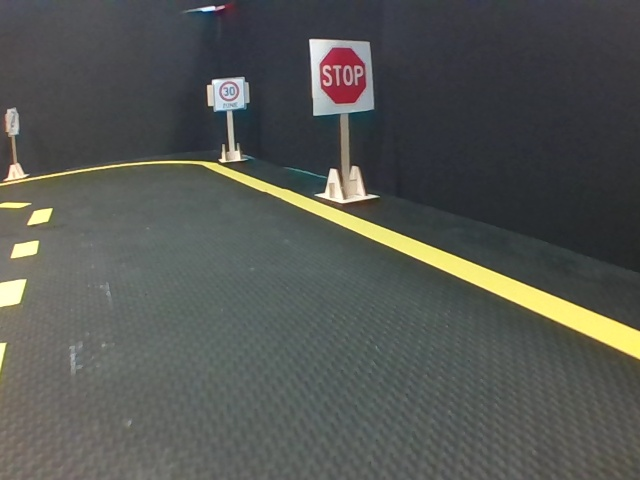30: (211, 79, 244, 110)
no30: (6, 107, 19, 133)
stop: (308, 39, 373, 112)
